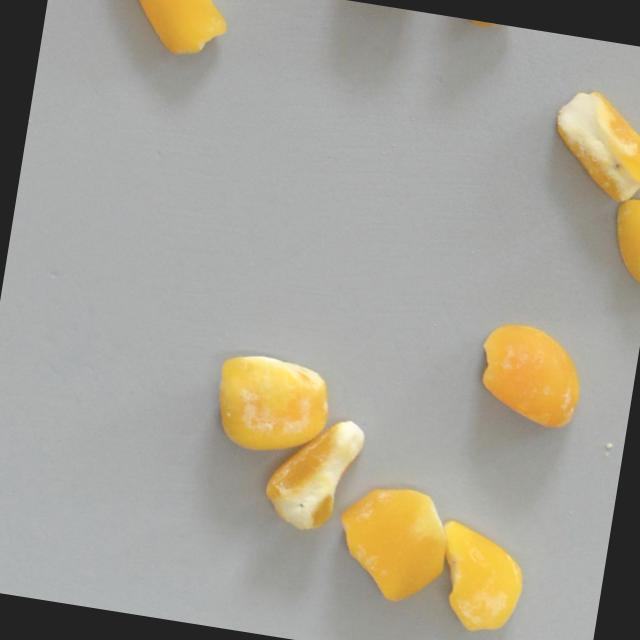estandar: (100, 0, 231, 64), (604, 197, 640, 294)
pelicula: (328, 479, 456, 610), (469, 315, 592, 434), (207, 350, 336, 463), (427, 518, 531, 639)
punto_negro: (260, 411, 366, 539), (545, 84, 640, 206)
